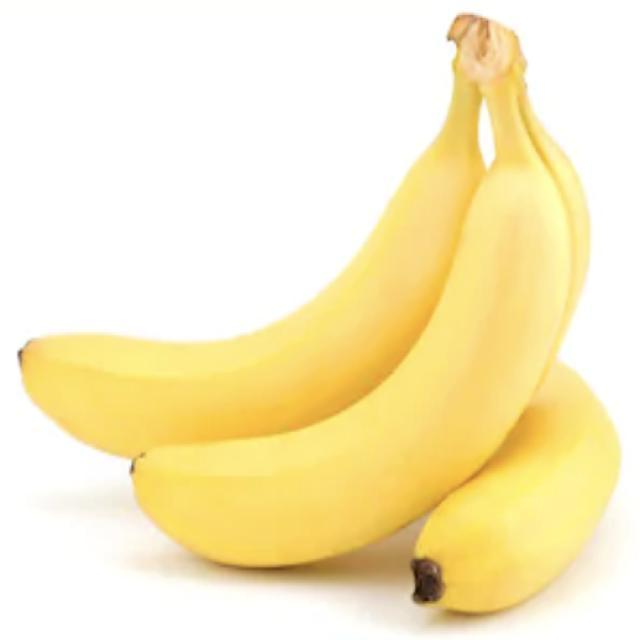Banana: (129, 14, 591, 570), (410, 357, 621, 615)
